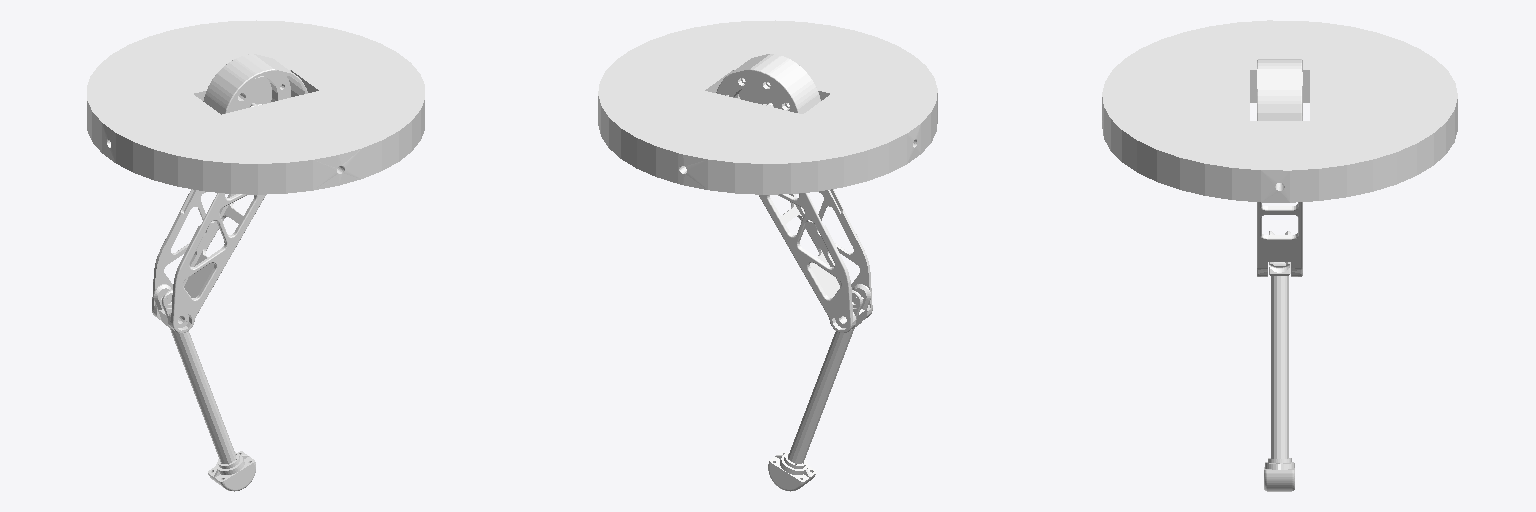
The robot description file, URDF, robot "OneLeg":
<?xml version="1.0" encoding="utf-8"?>
<!-- This URDF was automatically created by SolidWorks to URDF Exporter! Originally created by [author] ([email redacted]) 
     Commit Version: 1.6.0-4-g7f85cfe  Build Version: 1.6.7995.38578
     For more information, please see http://wiki.ros.org/sw_urdf_exporter -->
<robot name="OneLeg">
  <link name="Body_Link">
    <inertial>
      <origin xyz="0 0 0.03" rpy="0 0 0" />
      <mass value="120" />
      <inertia ixx="3.636" ixy="0" ixz="0" iyy="3.636" iyz="0" izz="5.4" />
    </inertial>
    <visual>
      <origin xyz="0 0 0" rpy="0 0 0" />
      <geometry>
        <mesh filename="package://OneLeg/meshes/Body_Link.STL" />
      </geometry>
      <material name="">
        <color rgba="1 1 1 1" />
      </material>
    </visual>
    <collision>
      <origin xyz="0 0 0" rpy="0 0 0" />
      <geometry>
        <mesh filename="package://OneLeg/meshes/Body_Link.STL" />
      </geometry>
    </collision>
  </link><dynamics damping="0" friction="0"/>
  <link name="Roll_Link">
    <inertial>
      <origin xyz="-3.13363478493992E-07 -3.13363478495209E-07 0.03" rpy="0 0 0" />
      <mass value="0.00247436658781711" />
      <inertia
        ixx="7.40251225622148E-08"
        ixy="2.42974557929604E-16"
        ixz="1.02097316129604E-11"
        iyy="7.40251225622148E-08"
        iyz="-1.02097316129553E-11"
        izz="1.15495108440108E-07" />
    </inertial>
    <visual>
      <origin xyz="0 0 0" rpy="0 0 0" />
      <geometry>
        <mesh filename="package://OneLeg/meshes/Roll_Link.STL" />
      </geometry>
      <material name="">
        <color rgba="1 1 1 1" />
      </material>
    </visual>
    <collision>
      <origin xyz="0 0 0" rpy="0 0 0" />
      <geometry>
        <mesh filename="package://OneLeg/meshes/Roll_Link.STL" />
      </geometry>
    </collision>
  </link>
  <joint name="Roll_Joint" type="revolute">
    <origin xyz="0 0 0" rpy="0 0 0" />
    <parent link="Body_Link" />
    <child link="Roll_Link" />
    <axis xyz="1 0 0" />
    <dynamics damping="0" friction="0"/>
    <limit effort="100000" lower="-3" upper="3" velocity="90"/>
  </joint>
  <link name="Pitch_Link">
    <inertial>
      <origin xyz="-0.0369341854634642 0.00662796529616538 -0.0660075263235951" rpy="0 0 0" />
      <mass value="6" />
      <inertia
        ixx="0.0150229154895215"
        ixy="-0.000221704477316522"
        ixz="-0.00573468358276225"
        iyy="0.0189540889527442"
        iyz="-0.000577162078509412"
        izz="0.00515889335328988" />
    </inertial>
    <visual>
      <origin xyz="0 0 0" rpy="0 0 0" />
      <geometry>
        <mesh filename="package://OneLeg/meshes/Pitch_Link.STL" />
      </geometry>
      <material name="">
        <color rgba="1 1 1 1" />
      </material>
    </visual>
    <collision>
      <origin xyz="0 0 0" rpy="0 0 0" />
      <geometry>
        <mesh filename="package://OneLeg/meshes/Pitch_Link.STL" />
      </geometry>
    </collision>
  </link>
  <joint name="Pitch_Joint" type="revolute">
    <origin xyz="0 0 0" rpy="0 0 0" />
    <parent link="Roll_Link" />
    <child link="Pitch_Link" />
    <axis xyz="0 1 0" />
    <dynamics damping="0" friction="0"/>
    <limit effort="100000" lower="-3" upper="3" velocity="90"/>
  </joint>
  <link name="Knee_Link">
    <inertial>
      <origin xyz="0.0367119699940946 -1.08342028458473E-09 -0.102238458167555" rpy="0 0 0" />
      <mass value="4" />
      <inertia
        ixx="0.000588779461741259"
        ixy="-1.54650153810167E-12"
        ixz="0.000204678924535596"
        iyy="0.000662718563601412"
        iyz="-2.73874365398196E-11"
        izz="0.000100362302423415" />
    </inertial>
    <visual>
      <origin xyz="0 0 0" rpy="0 0 0" />
      <geometry>
        <mesh filename="package://OneLeg/meshes/Knee_Link.STL" />
      </geometry>
      <material name="">
        <color rgba="1 1 1 1" />
      </material>
    </visual>
    <collision>
      <origin xyz="0 0 0" rpy="0 0 0" />
      <geometry>
        <mesh filename="package://OneLeg/meshes/Knee_Link.STL" />
      </geometry>
    </collision>
  </link>
  <joint name="Knee_Joint" type="revolute">
    <origin xyz="-0.16905 -0.0005 -0.33252" rpy="0 0 0" />
    <parent link="Pitch_Link" />
    <child link="Knee_Link" />
    <axis xyz="0 1 0" />
    <dynamics damping="0" friction="0"/>
    <limit effort="100000" lower="-1.2" upper="0" velocity="90"/>
  </joint>
  <link name="Foot_Link">
    <inertial>
      <origin xyz="-0.00241794372260745 -2.50358329443489E-05 -0.0104966197075868" rpy="0 0 0" />
      <mass value="0.1092524683809" />
      <inertia
        ixx="3.31992889640649E-05"
        ixy="-2.73806222356045E-13"
        ixz="2.92997813917888E-13"
        iyy="4.55928756246438E-05"
        iyz="-2.49058996475487E-09"
        izz="6.59099336062295E-05" />
    </inertial>
    <visual>
      <origin xyz="0 0 0" rpy="0 0 0" />
      <geometry>
        <mesh filename="package://OneLeg/meshes/Foot_Link.STL" />
      </geometry>
      <material name="">
        <color rgba="1 1 1 1" />
      </material>
    </visual>
    <collision>
      <origin xyz="0 0 0" rpy="0 0 0" />
      <geometry>
        <mesh filename="package://OneLeg/meshes/Foot_Link.STL" />
      </geometry>
    </collision>
  </link>
  <joint name="Foot_Joint" type="fixed">
    <origin xyz="0.12099 0 -0.32534" rpy="0 -0.34907 0" />
    <parent link="Knee_Link" />
    <child link="Foot_Link" />
    <axis xyz="0 0 0" />
  </joint>
</robot>

--- Facts derived from the render (not from the file) ---
The picture shows the robot from 3 angles, left to right: view 1: azimuth 30°, elevation 25°; view 2: azimuth 150°, elevation 25°; view 3: azimuth 270°, elevation 25°; orthographic projection.
Model OneLeg with 5 links and 4 joints (3 revolute, 1 fixed), rooted at Body_Link, posed all joints at 0.
Links seen in each view (by area): view 1: Body_Link, Pitch_Link, Knee_Link, Foot_Link; view 2: Body_Link, Pitch_Link, Knee_Link, Foot_Link; view 3: Body_Link, Pitch_Link, Knee_Link, Foot_Link.
Boxes of the visible links, bbox=[...] form: Body_Link: bbox=[87, 20, 424, 194]; Pitch_Link: bbox=[152, 54, 307, 332]; Knee_Link: bbox=[153, 284, 235, 463]; Foot_Link: bbox=[208, 451, 255, 491]; Body_Link: bbox=[598, 20, 937, 194]; Pitch_Link: bbox=[716, 54, 872, 332]; Knee_Link: bbox=[788, 284, 870, 463]; Foot_Link: bbox=[768, 451, 816, 491]; Body_Link: bbox=[1102, 20, 1457, 202]; Pitch_Link: bbox=[1257, 59, 1302, 276]; Knee_Link: bbox=[1269, 231, 1290, 458]; Foot_Link: bbox=[1264, 458, 1294, 491].
Size in the robot's own frame: 0.6 by 0.6 by 0.8141 metres.
Meshes: 5 distinct files referenced, 5 mesh visuals loaded (5 binary STL).